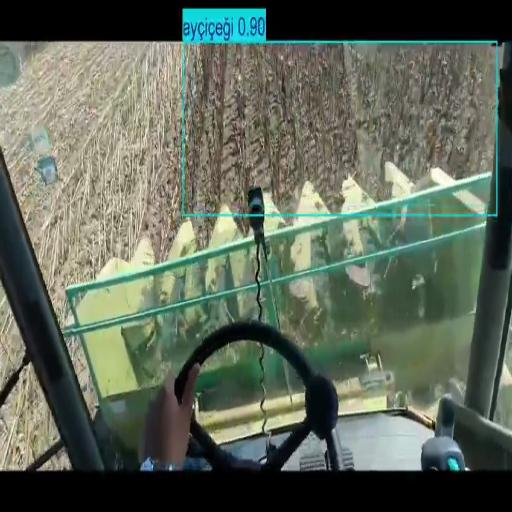ayc: (185, 45, 488, 215)
